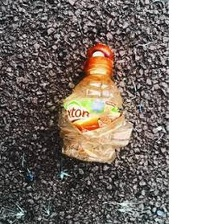bottle: (59, 43, 131, 168)
